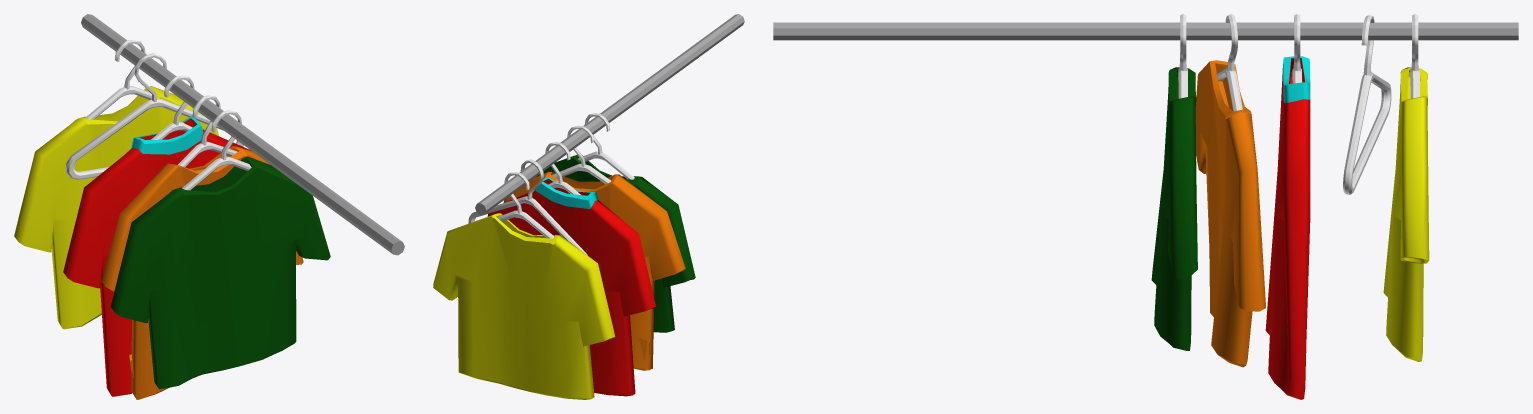
The model's file is BedRoom_ClothesOnAHanger.fbx.
3 renders of one model, left to right at view 1: azimuth 30°, elevation 25°; view 2: azimuth 150°, elevation 25°; view 3: azimuth 270°, elevation 25°, orthographic. The views are drawn at different scales.
Parts seen in each view (by area): view 1: BedRoom_ClothesOnAHanger; view 2: BedRoom_ClothesOnAHanger; view 3: BedRoom_ClothesOnAHanger.
Part boxes in pixels (x1,y1,x2,y2): BedRoom_ClothesOnAHanger: (14,14,404,399); BedRoom_ClothesOnAHanger: (433,14,744,399); BedRoom_ClothesOnAHanger: (773,14,1518,399).
Bounding box in the file's own units: 70.07 × 90.44 × 173.
